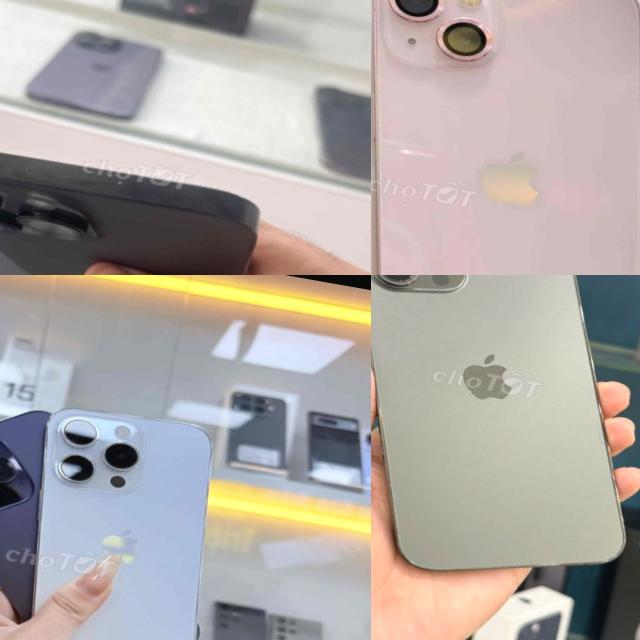gen_12_13: (371, 275, 640, 604), (371, 0, 640, 275)
gen_14: (1, 386, 244, 640), (0, 124, 274, 275)
